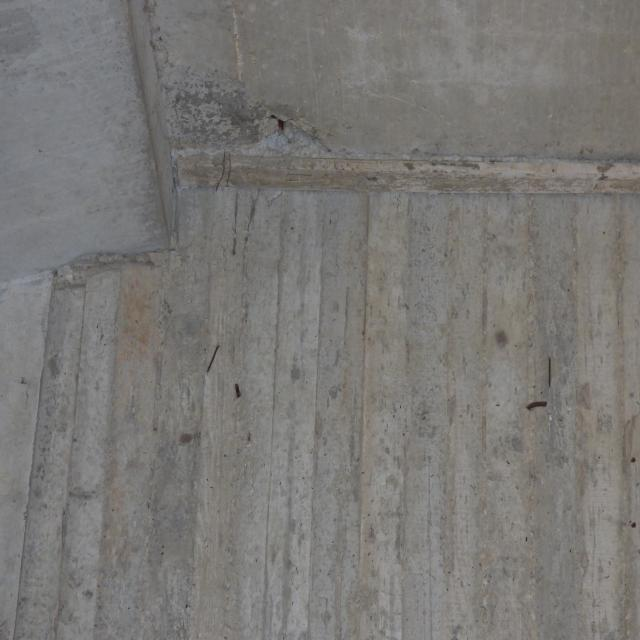corrosion: (206, 329, 250, 413), (519, 349, 558, 423), (271, 110, 292, 142), (627, 451, 638, 470), (627, 515, 637, 531)
